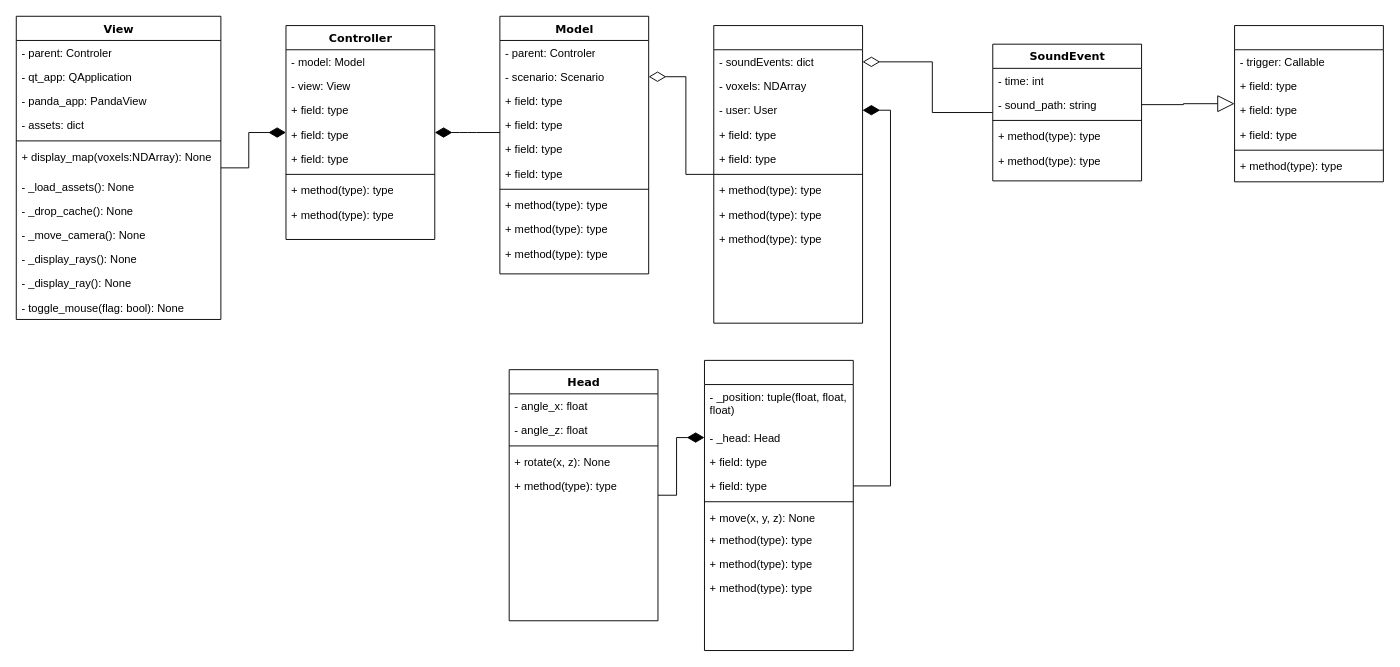
Some shapes in this 1400 by 667 pixel diagram are drawn without their labels. The box of each missing label's shape, as (x1, y1, x2, y2) in pixels:
Event: (1234, 25, 1383, 182)
Scenario: (713, 25, 863, 323)
User: (704, 359, 853, 651)
